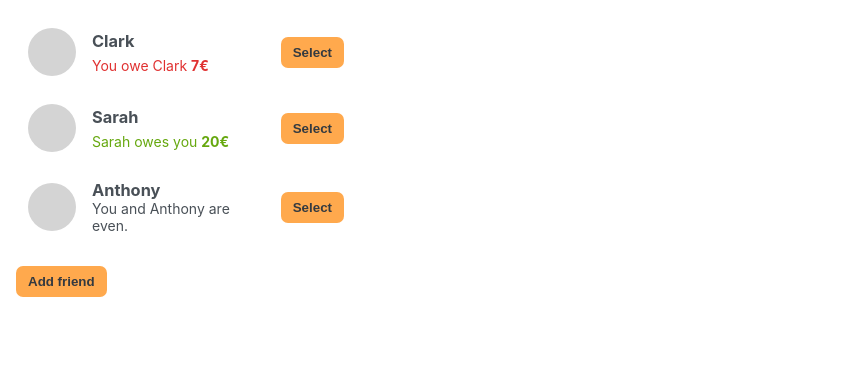
App Integration Test › closes split bill form when friend is deselected
Click the button "Select" in the row of "You owe": [312, 52] box top-left (281, 37), bottom-right (344, 68)
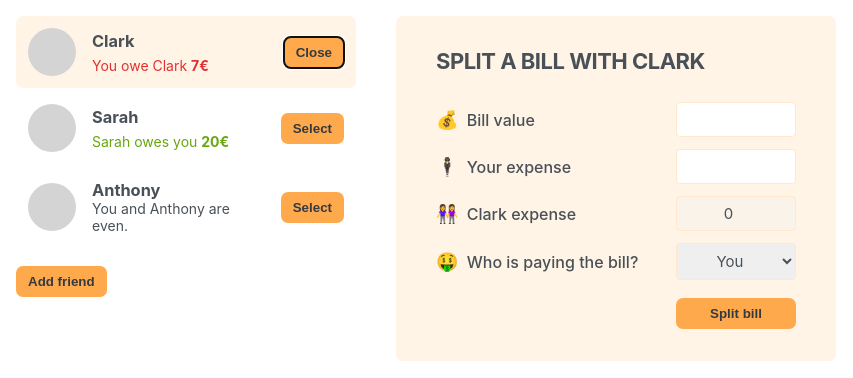
expect the heading "Split a bill with Clark" is shown: met, box top-left (436, 48), bottom-right (705, 74)
Click the button named "select": [314, 52] box top-left (284, 37), bottom-right (344, 68)
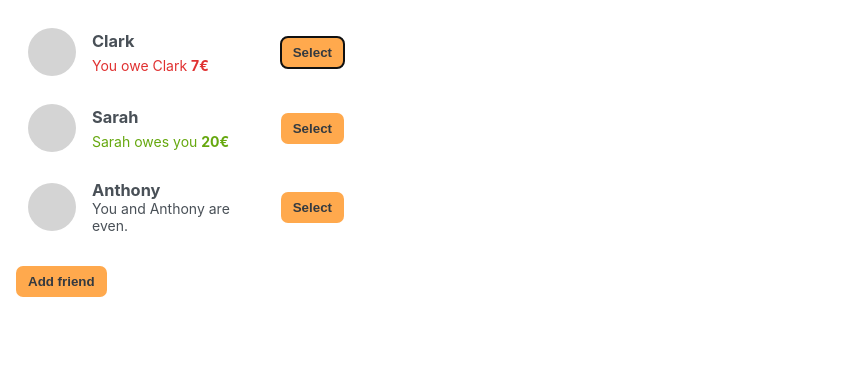
expect the heading "Split a bill with" is gone: met
